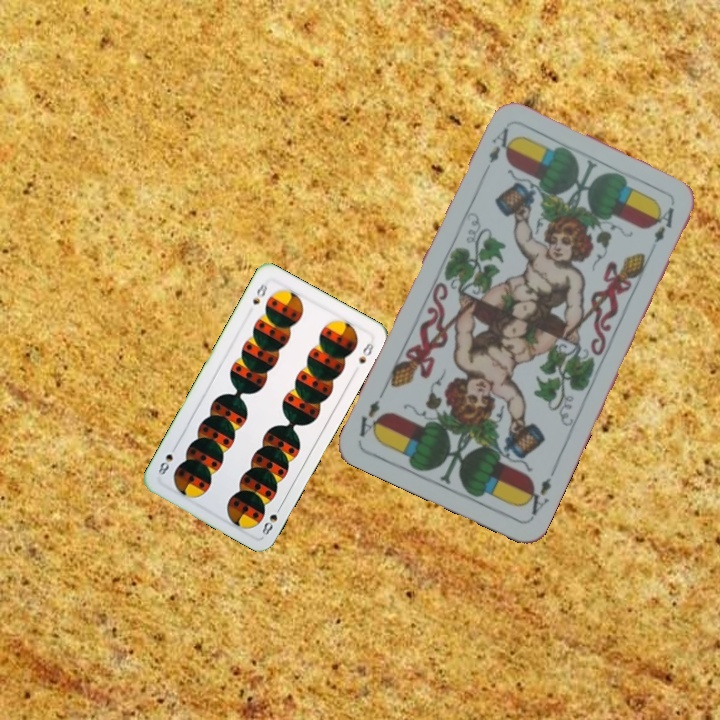EA: (520, 465, 559, 521), (484, 123, 514, 166)
S8: (258, 500, 285, 538), (248, 279, 270, 307)
